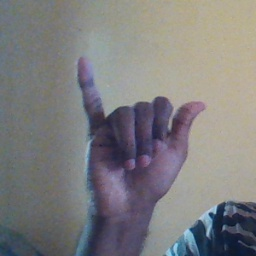J: (70, 54, 208, 207)
